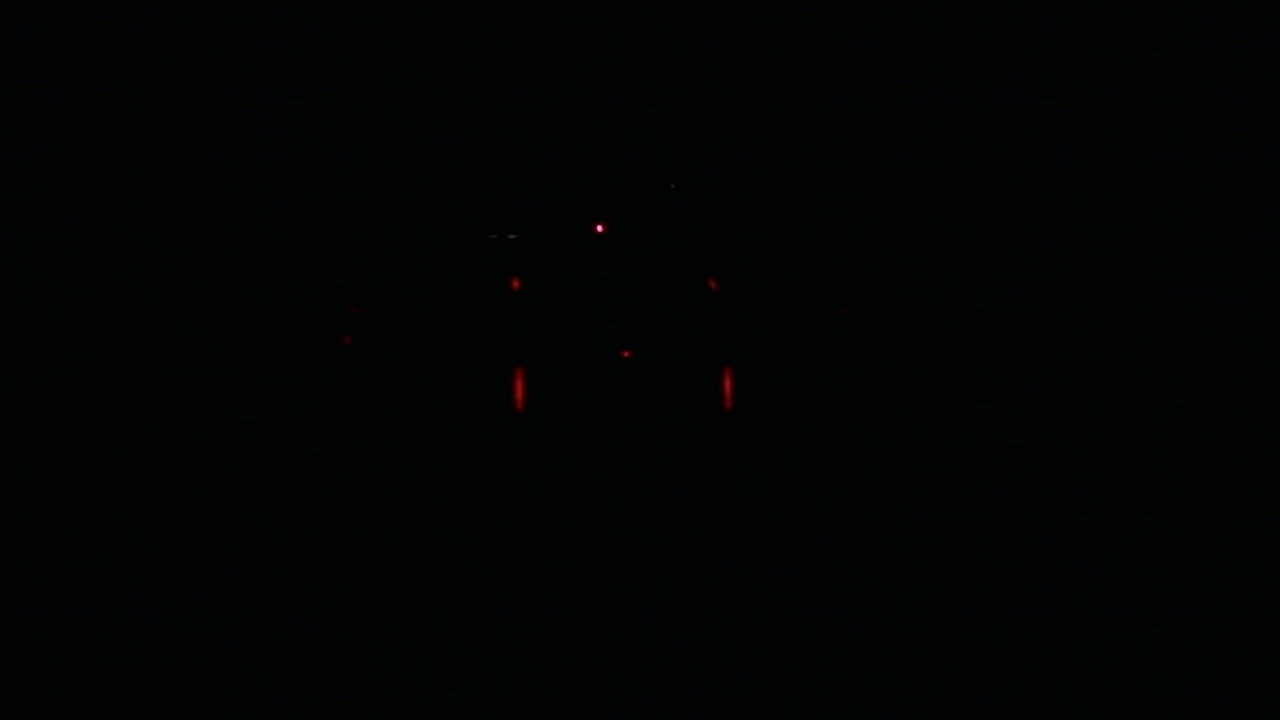lamp: (720, 365, 735, 411), (512, 365, 525, 411)
pair2: (512, 366, 735, 412)
